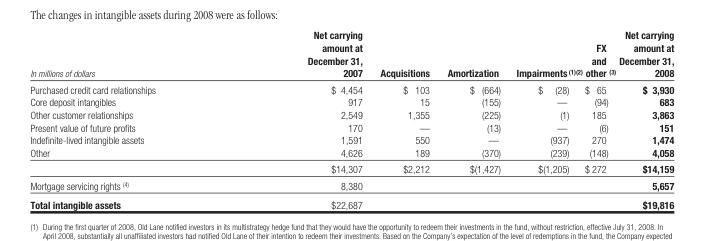table: (29, 28, 673, 209)
table column: (29, 28, 230, 209), (230, 28, 370, 209), (507, 28, 582, 209), (437, 28, 507, 209), (370, 28, 437, 209), (616, 28, 673, 209), (582, 28, 616, 209)
table column header: (29, 28, 673, 80)
table row: (29, 28, 673, 80), (29, 176, 673, 194), (29, 160, 673, 176), (29, 80, 673, 95), (29, 145, 673, 160), (29, 194, 673, 209), (29, 107, 673, 120), (29, 120, 673, 133), (29, 95, 673, 107), (29, 133, 673, 145)
